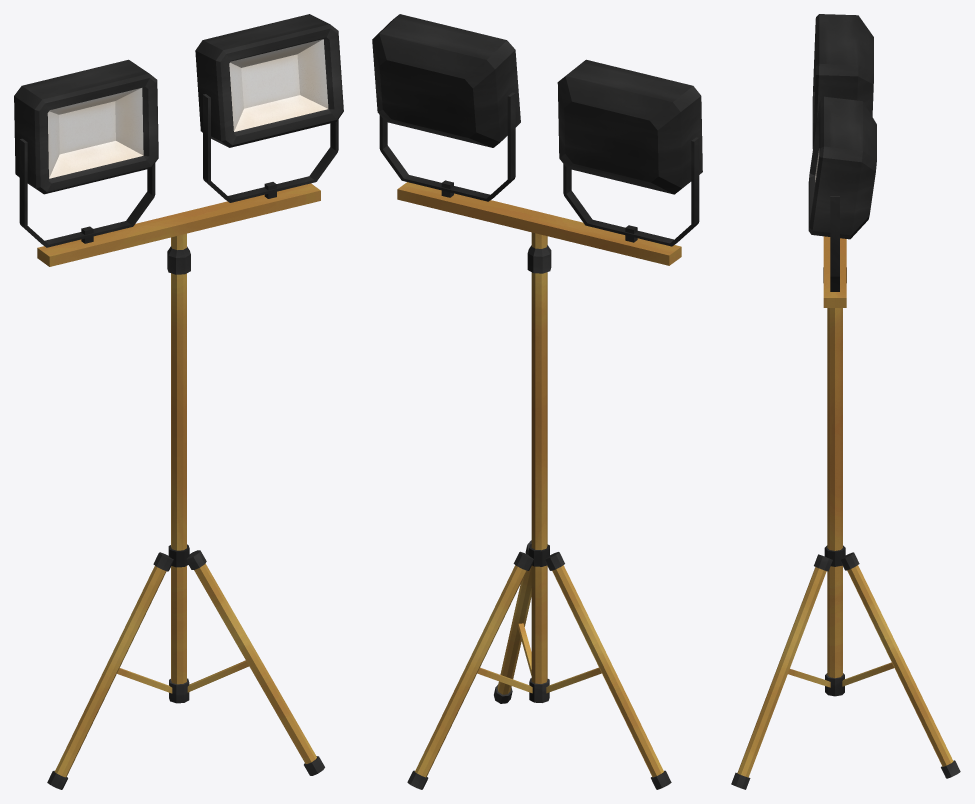
The model's file is PortableLight.fbx.
3 views of the same model, side by side, from view 1: azimuth 30°, elevation 25°; view 2: azimuth 150°, elevation 25°; view 3: azimuth 270°, elevation 25° (orthographic). The views are drawn at different scales.
Visible parts, largest first — view 1: SM_PortableLight; view 2: SM_PortableLight; view 3: SM_PortableLight.
Part boxes in pixels (x1=…): SM_PortableLight: x1=14, y1=14, x2=343, y2=789; SM_PortableLight: x1=372, y1=14, x2=702, y2=789; SM_PortableLight: x1=731, y1=14, x2=960, y2=789.
Size of the model in its own units: 140 by 301 by 93.31.
